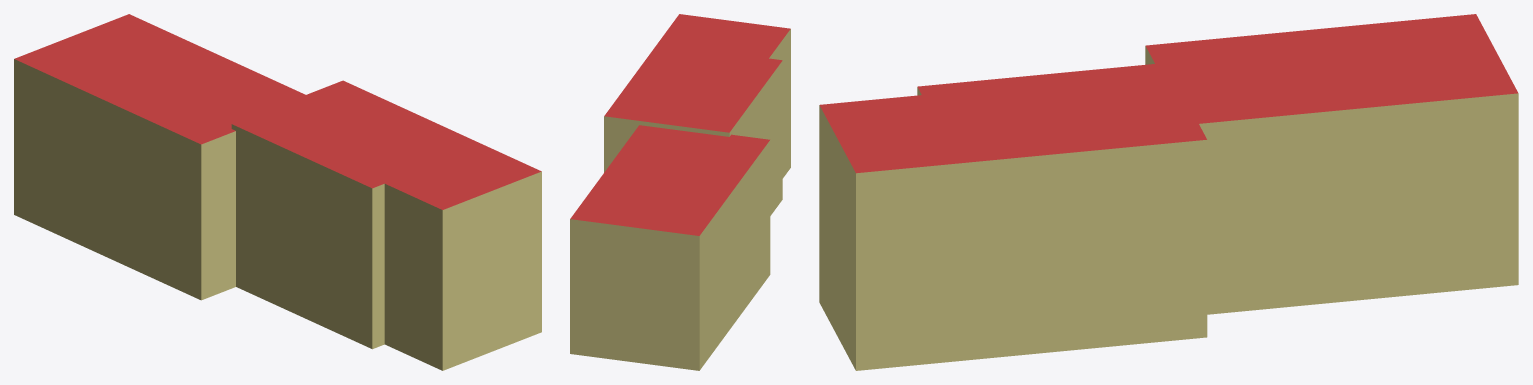
3 renders of one model, left to right at view 1: azimuth 30°, elevation 25°; view 2: azimuth 150°, elevation 25°; view 3: azimuth 270°, elevation 25°, orthographic. The views are drawn at different scales.
Visible parts, largest first — view 1: group_7, group_4, group_6, group_3; view 2: group_4, group_6, group_3, group_7; view 3: group_7, group_4, group_6, group_3.
Part boxes in pixels (<box>): group_7: <box>231,124,541,370</box>; group_4: <box>14,59,235,300</box>; group_6: <box>232,80,541,209</box>; group_3: <box>14,14,305,144</box>; group_4: <box>570,140,770,370</box>; group_6: <box>604,14,790,132</box>; group_3: <box>570,125,769,235</box>; group_7: <box>604,29,790,215</box>; group_7: <box>819,87,1207,370</box>; group_4: <box>1145,46,1518,314</box>; group_6: <box>819,63,1206,173</box>; group_3: <box>1146,14,1517,123</box>.
Bounding box in the file's own units: 35.13 × 62.8 × 19.6.
